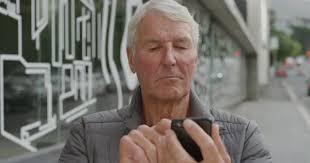white_male: (130, 23, 202, 98)
